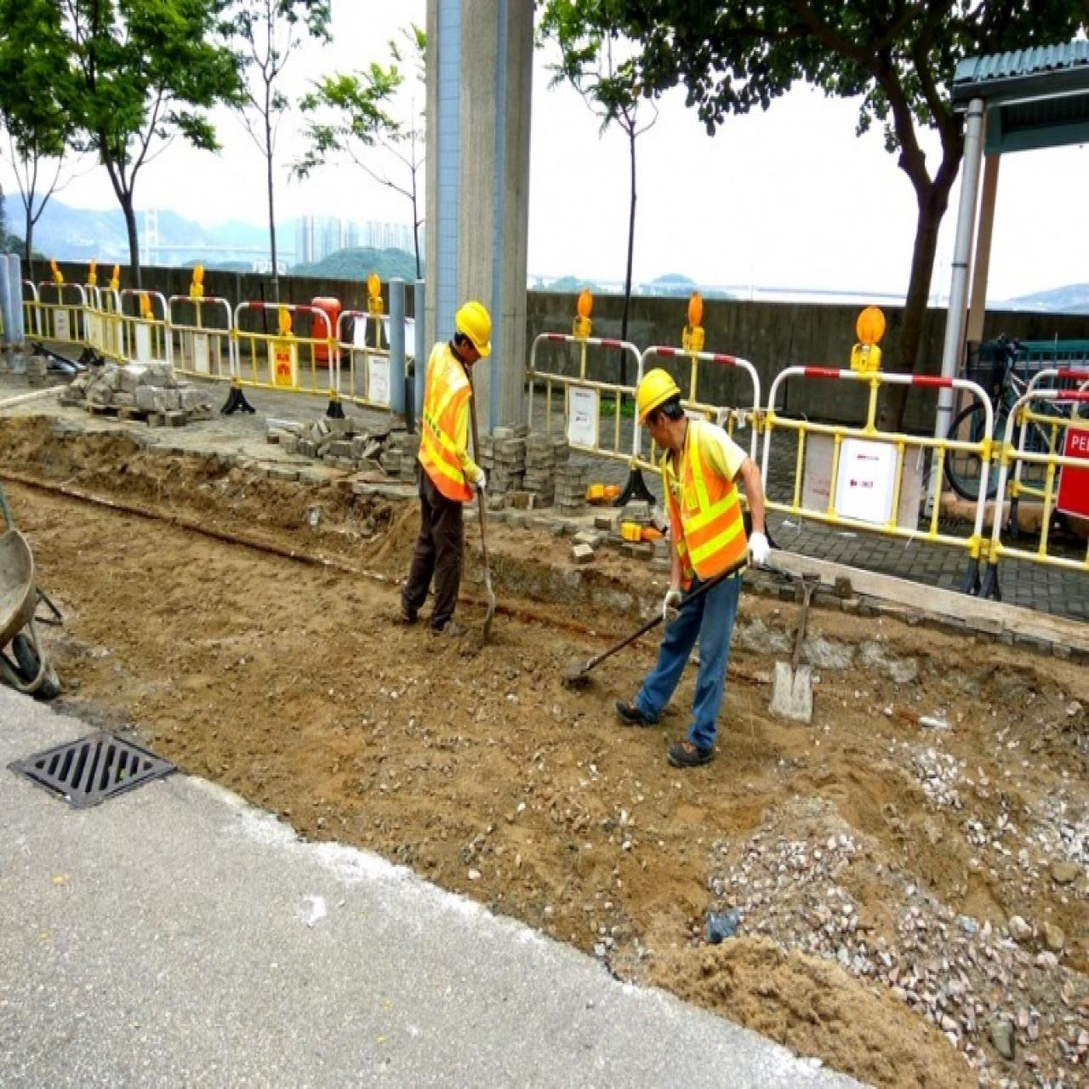Person: (606, 350, 788, 770), (400, 288, 501, 667)
Safety_Vest: (656, 421, 748, 589), (415, 339, 470, 500)
